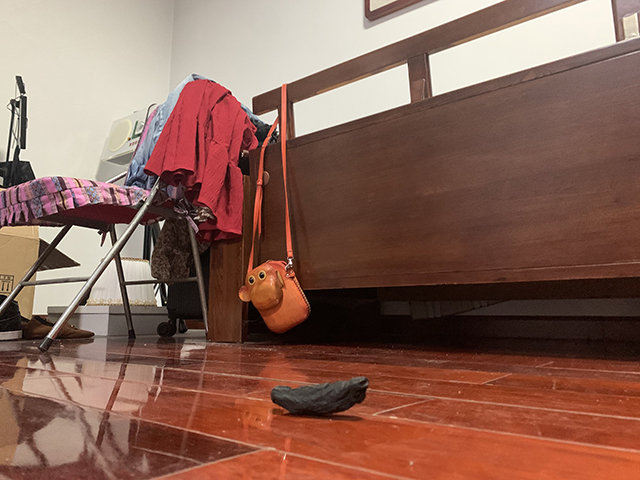bed: (207, 1, 639, 345)
feces: (270, 375, 370, 417)
stool: (1, 103, 210, 352)
